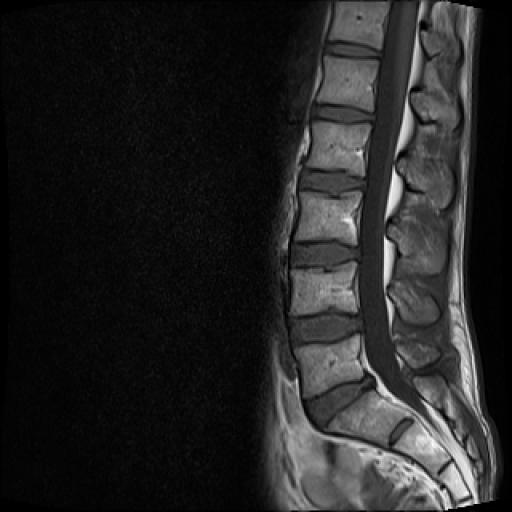L1: (316, 55, 379, 112)
L2: (306, 121, 371, 176)
L3: (296, 191, 360, 246)
L4: (290, 261, 359, 316)
L5: (295, 334, 364, 398)
S1: (327, 390, 407, 446)
